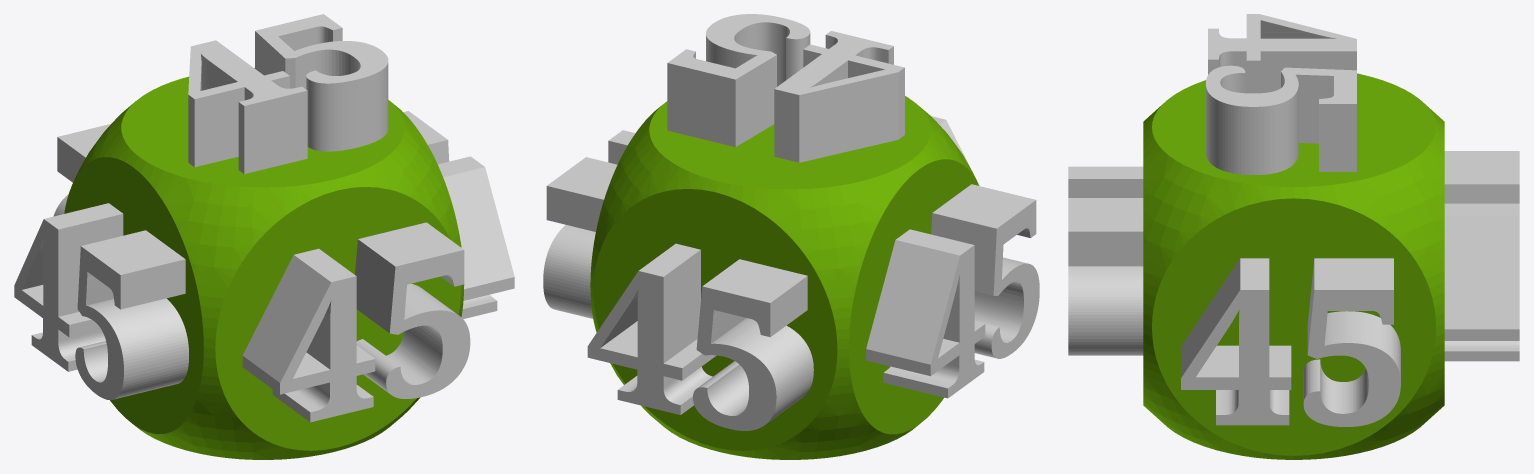
Rendered from number45.glb.
The picture shows the model from 3 angles, left to right: view 1: azimuth 30°, elevation 25°; view 2: azimuth 150°, elevation 25°; view 3: azimuth 270°, elevation 25°; orthographic projection.
Parts seen in each view (by area): view 1: Mesh_Mesh_head_geo.001_lambert2SG.001; view 2: Mesh_Mesh_head_geo.001_lambert2SG.001; view 3: Mesh_Mesh_head_geo.001_lambert2SG.001.
Boxes of the visible parts, <box> form: Mesh_Mesh_head_geo.001_lambert2SG.001: <box>14,14,514,459</box>; Mesh_Mesh_head_geo.001_lambert2SG.001: <box>543,14,1039,459</box>; Mesh_Mesh_head_geo.001_lambert2SG.001: <box>1068,14,1519,459</box>.
Size of the model in its own units: 60 by 50 by 60.
